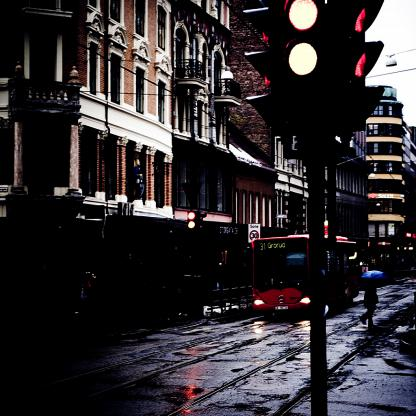Bus: (252, 237, 358, 309)
